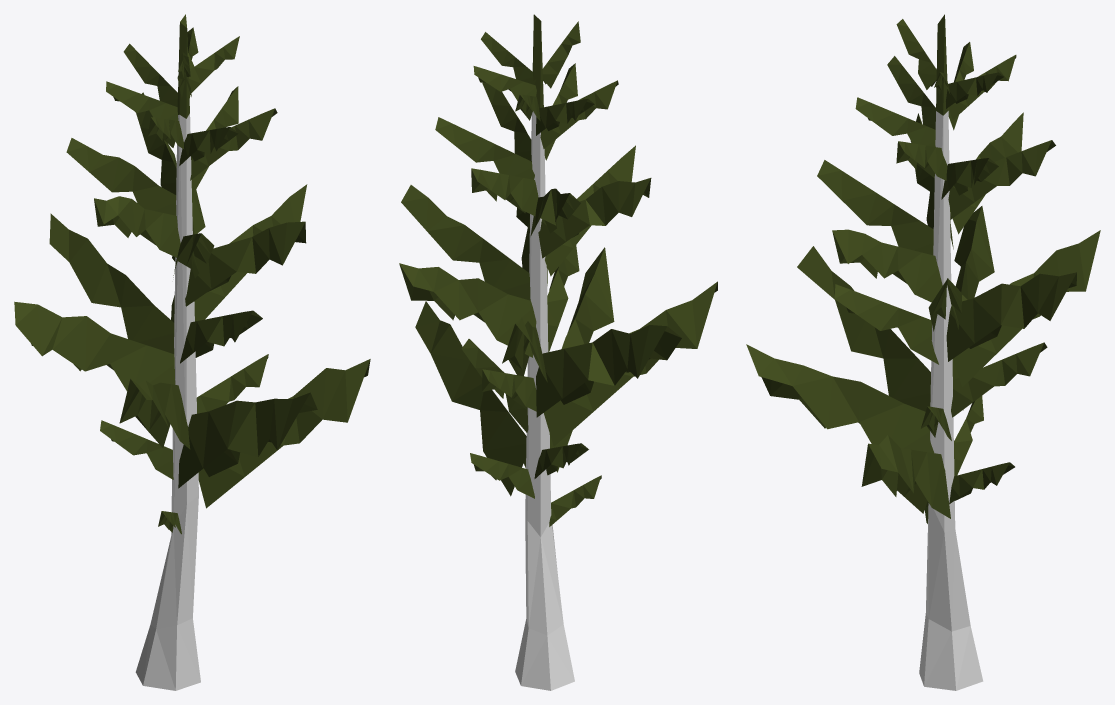
File: SM_Tree_Spruce_Sapling_A.fbx
3 renders of one model, left to right at view 1: azimuth 30°, elevation 25°; view 2: azimuth 150°, elevation 25°; view 3: azimuth 270°, elevation 25°, orthographic. The views are drawn at different scales.
Visible parts, largest first — view 1: tree-spruce-sapling-a; view 2: tree-spruce-sapling-a; view 3: tree-spruce-sapling-a.
Boxes of the visible parts, box(x1,y1,x2,y2) form: tree-spruce-sapling-a: box(14, 14, 370, 690); tree-spruce-sapling-a: box(399, 14, 717, 690); tree-spruce-sapling-a: box(746, 14, 1100, 690).
Bounding box in the file's own units: 0.7459 × 1.52 × 0.7283.
